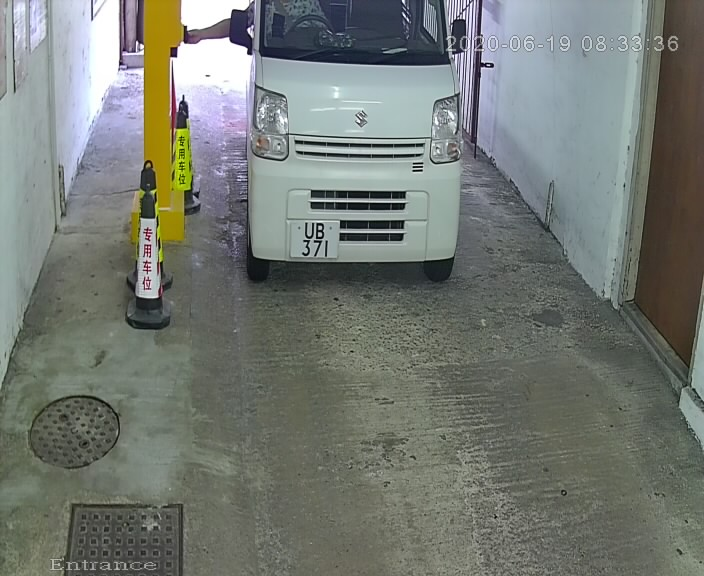bottom_left_lp: (285, 249, 295, 258)
bottom_left_radiator: (305, 205, 315, 214)
bottom_left_windshield: (253, 49, 267, 58)
bottom_right_lp: (332, 252, 340, 260)
bottom_right_radiator: (397, 236, 410, 252)
bottom_right_windshield: (447, 58, 454, 69)
brand: (354, 107, 370, 130)
left_headlight: (251, 81, 291, 162)
right_headlight: (428, 92, 464, 167)
top_left_lp: (287, 218, 295, 227)
top_left_radiator: (306, 185, 316, 198)
top_right_lp: (333, 216, 341, 226)
top_right_radiator: (403, 185, 410, 199)
